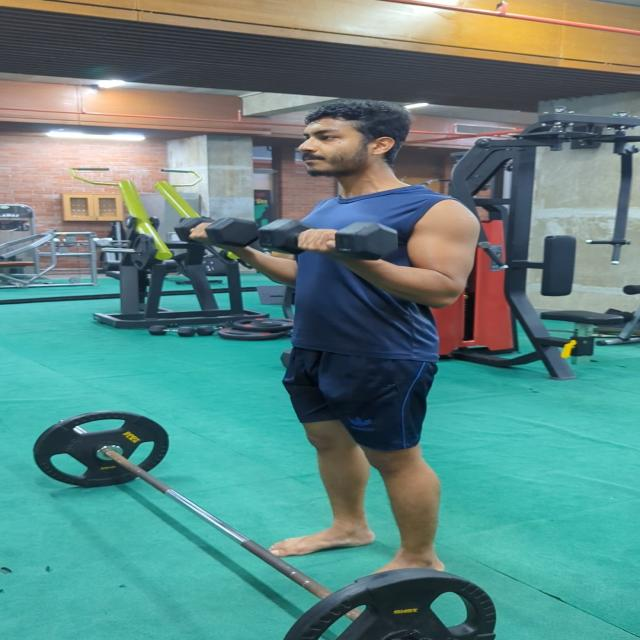Normal_DumbbellBicepCurls: (185, 98, 486, 588)
